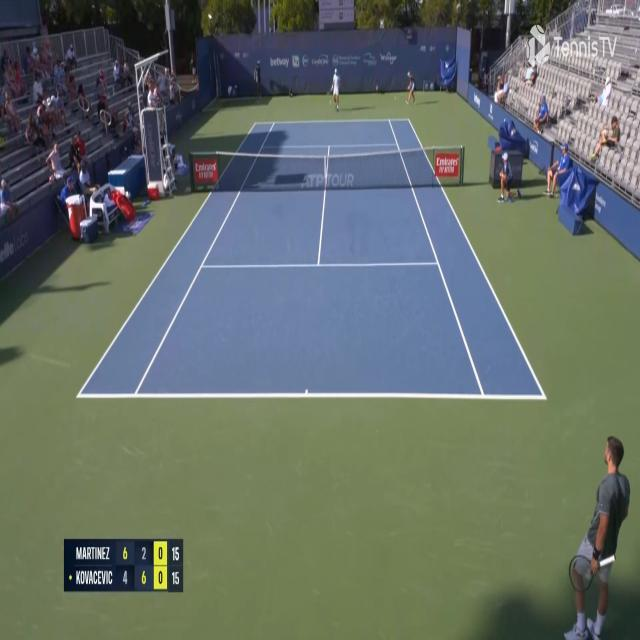tennis-player: (565, 432, 633, 640), (328, 67, 342, 113)
